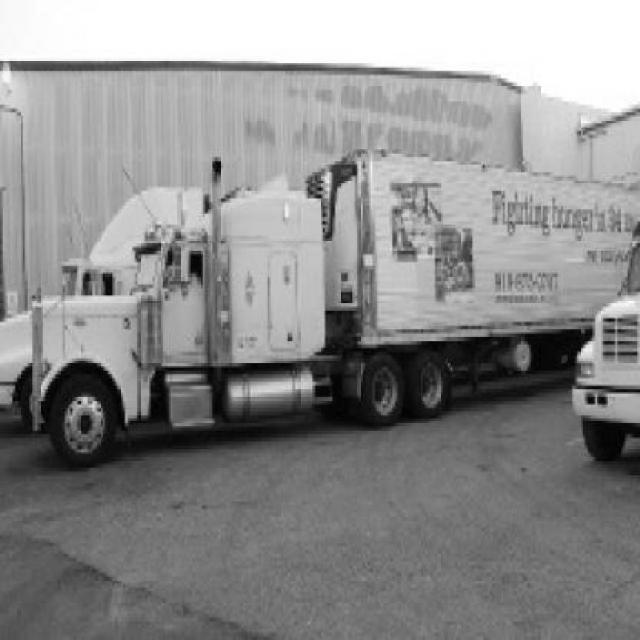Tractor Trailer: (32, 151, 640, 469)
